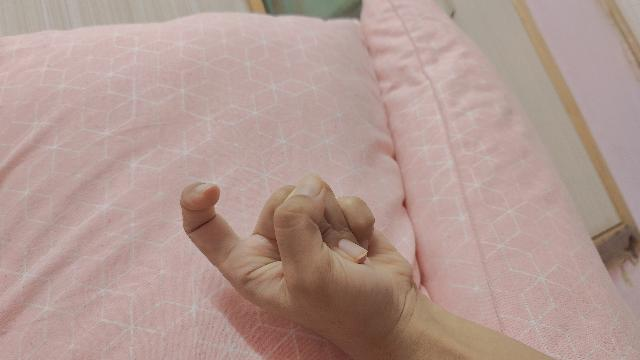tamrachud: (181, 175, 555, 360)
